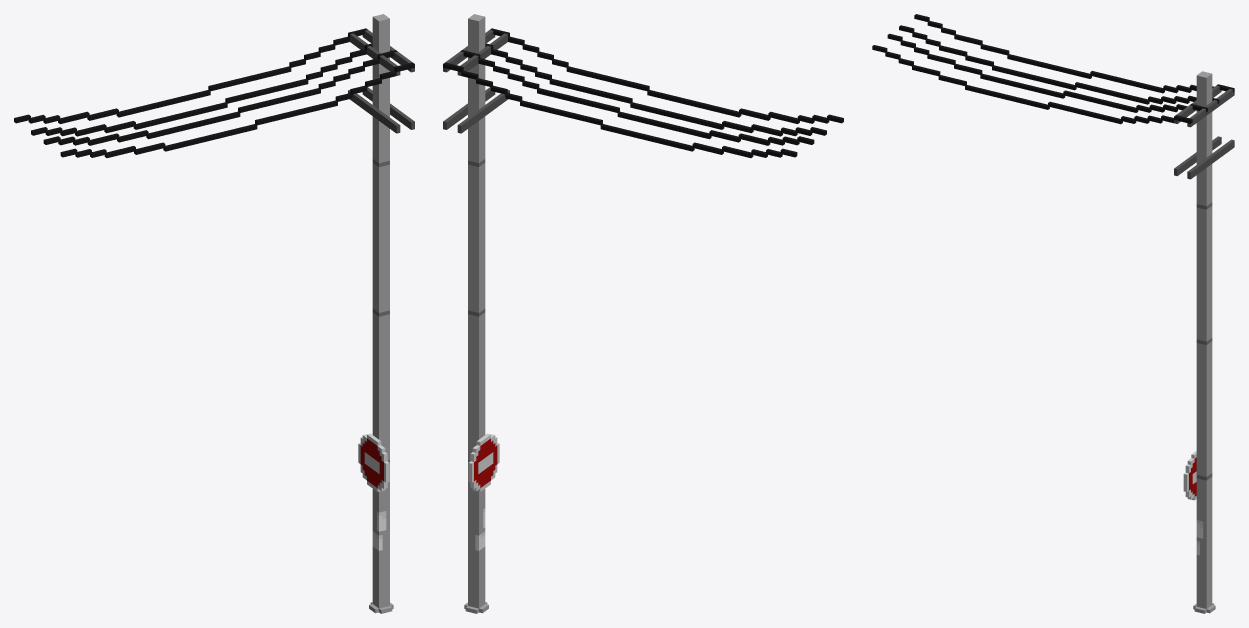
The model's file is poleFive.glb.
3 renders of one model, left to right at view 1: azimuth 30°, elevation 25°; view 2: azimuth 150°, elevation 25°; view 3: azimuth 330°, elevation 25°, orthographic. The views are drawn at different scales.
Visible parts, largest first — view 1: ObjObject; view 2: ObjObject; view 3: ObjObject.
Boxes of the visible parts, left/top/right/bottom form: ObjObject: left=14, top=14, right=414, bottom=613; ObjObject: left=443, top=14, right=843, bottom=613; ObjObject: left=872, top=14, right=1234, bottom=613.
Bounding box in the file's own units: 9.6 × 15.4 × 2.3.
1 material, 1 textured.
